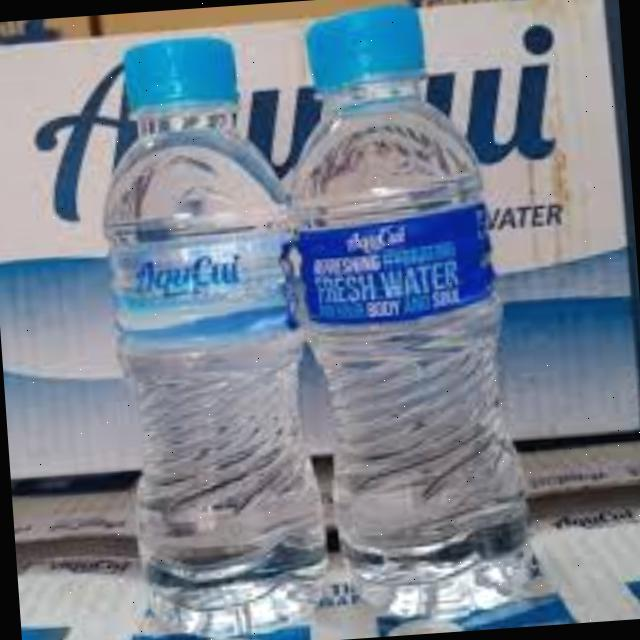trash: (261, 0, 540, 631), (87, 29, 328, 640)
